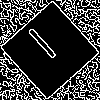I: (25, 25, 66, 69)
